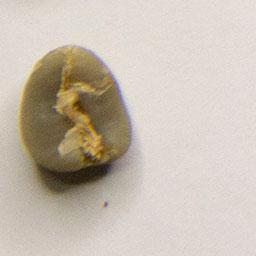premium: (16, 40, 136, 177)
